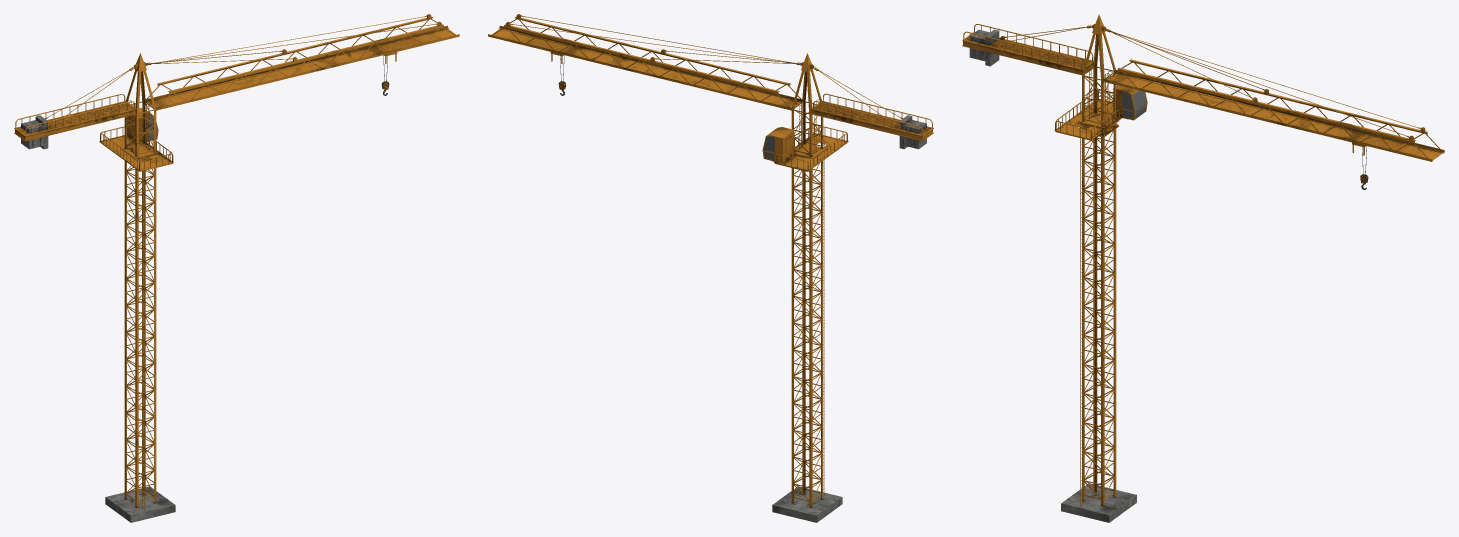
The model's file is tower_crane.glb.
The picture shows the model from 3 angles, left to right: view 1: azimuth 30°, elevation 25°; view 2: azimuth 150°, elevation 25°; view 3: azimuth 330°, elevation 25°; orthographic projection. The views are drawn at different scales.
Visible parts, largest first — view 1: Cube.052, Cube.055, Plane.023, Cube.073, Cube.053, Cube.054, Cube.056, Cube.101, Plane.029, Cube.074; view 2: Cube.052, Cube.055, Plane.023, Cube.073, Cube.053, Cube.054, Cube.056, Cube.101, Cube.072, Cube.075, Cube.074; view 3: Cube.052, Cube.055, Plane.023, Cube.073, Cube.053, Cube.054, Cube.056, Plane.029, Cube.074, Cube.101, Cube.075.
Boxes of the visible parts, x1,y1,x2,y2 form: Cube.052: [124, 161, 156, 507]; Cube.055: [145, 16, 459, 110]; Plane.023: [147, 29, 455, 107]; Cube.073: [105, 486, 175, 522]; Cube.053: [124, 70, 156, 156]; Cube.054: [14, 101, 136, 141]; Cube.056: [16, 101, 134, 134]; Cube.101: [102, 136, 171, 169]; Plane.029: [137, 155, 144, 510]; Cube.074: [138, 175, 153, 501]; Cube.052: [791, 161, 823, 507]; Cube.055: [488, 16, 802, 110]; Plane.023: [491, 29, 800, 107]; Cube.073: [772, 486, 842, 522]; Cube.053: [791, 70, 823, 156]; Cube.054: [811, 100, 933, 141]; Cube.056: [814, 101, 931, 134]; Cube.101: [776, 134, 845, 169]; Cube.072: [762, 127, 794, 163]; Cube.075: [794, 175, 809, 501]; Cube.074: [804, 169, 821, 493]; Cube.052: [1082, 129, 1116, 506]; Cube.055: [1103, 59, 1444, 161]; Plane.023: [1106, 73, 1442, 160]; Cube.073: [1061, 483, 1136, 522]; Cube.053: [1082, 32, 1116, 126]; Cube.054: [962, 32, 1094, 75]; Cube.056: [965, 36, 1092, 68]; Plane.029: [1075, 120, 1083, 505]; Cube.074: [1084, 136, 1100, 499]; Cube.101: [1057, 100, 1118, 138]; Cube.075: [1095, 137, 1114, 490].
Size of the model in its own units: 51.5 by 51.61 by 8.28.
7 materials, 7 textured.
